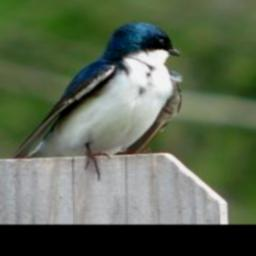Swallow: (10, 19, 186, 181)
